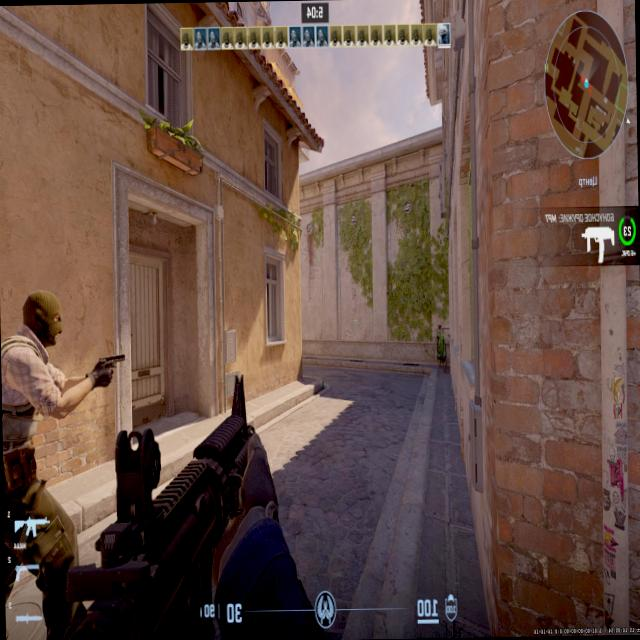T: (0, 295, 62, 506)
T_heat: (24, 305, 56, 343)
